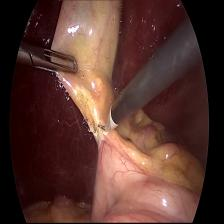Grasper: (22, 39, 78, 78)
Hook: (93, 104, 119, 135)
